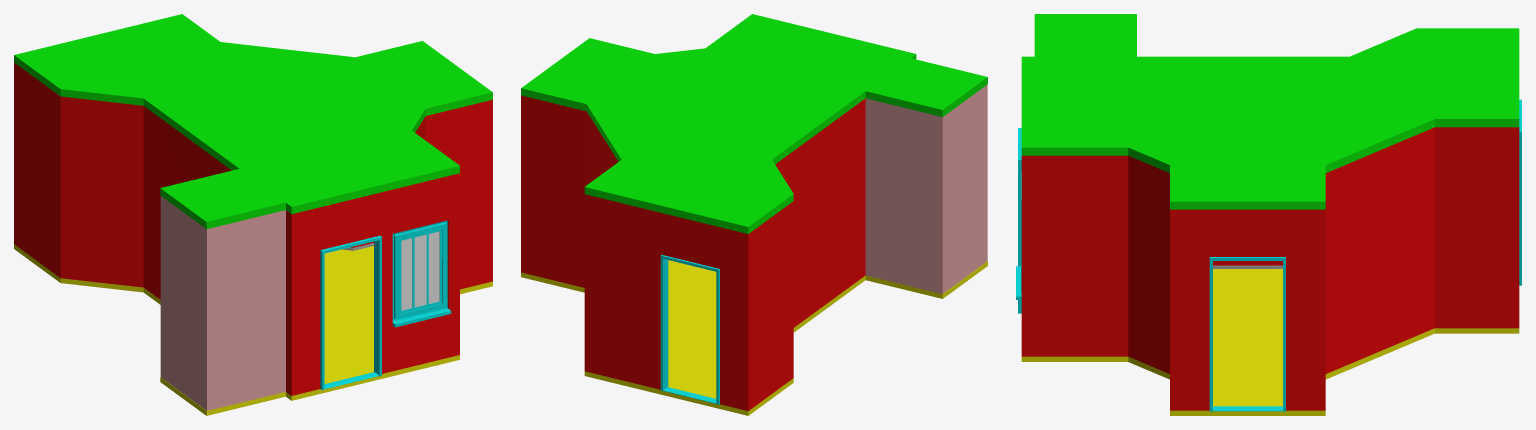
The model's file is FloorPlan530_physics.fbx.
The picture shows the model from 3 angles, left to right: view 1: azimuth 30°, elevation 25°; view 2: azimuth 150°, elevation 25°; view 3: azimuth 270°, elevation 25°; orthographic projection. The views are drawn at different scales.
Visible parts, largest first — view 1: FP530:Walls_1, FP530:Ceiling_1, FP530:Walls_2, FP530:Floor_1, FP530:Ceiling_2, FP530:WindowFrame_1, FP530:WindowPane_1, FP530:DoorFrame_1, FP530:Floor_2; view 2: FP530:Walls_1, FP530:Ceiling_1, FP530:Walls_2, FP530:Floor_1, FP530:Ceiling_2, FP530:DoorFrame_3, FP530:Floor_2; view 3: FP530:Walls_1, FP530:Ceiling_1, FP530:Floor_1, FP530:Ceiling_2, FP530:DoorFrame_2, FP530:DoorFrame_3, FP530:DoorFrame_1.
Part boxes in pixels (box(x1,y1,x2,y2)): FP530:Walls_1: box(14, 62, 492, 395); FP530:Ceiling_1: box(14, 14, 492, 213); FP530:Walls_2: box(160, 196, 285, 410); FP530:Floor_1: box(14, 244, 492, 400); FP530:Ceiling_2: box(160, 169, 285, 229); FP530:WindowFrame_1: box(392, 220, 451, 327); FP530:WindowPane_1: box(401, 231, 439, 310); FP530:DoorFrame_1: box(320, 235, 381, 390); FP530:Floor_2: box(160, 377, 285, 415); FP530:Walls_1: box(521, 95, 865, 410); FP530:Ceiling_1: box(521, 14, 916, 233); FP530:Walls_2: box(865, 84, 987, 293); FP530:Floor_1: box(521, 260, 865, 415); FP530:Ceiling_2: box(865, 58, 987, 116); FP530:DoorFrame_3: box(660, 255, 719, 404); FP530:Floor_2: box(865, 261, 987, 298); FP530:Walls_1: box(1021, 127, 1519, 410); FP530:Ceiling_1: box(1021, 28, 1519, 209); FP530:Floor_1: box(1021, 269, 1519, 415); FP530:Ceiling_2: box(1034, 14, 1136, 56); FP530:DoorFrame_2: box(1209, 257, 1285, 411); FP530:DoorFrame_3: box(1519, 99, 1521, 285); FP530:DoorFrame_1: box(1018, 128, 1021, 313).
Bounding box in the file's own units: 543 × 288 × 615.
